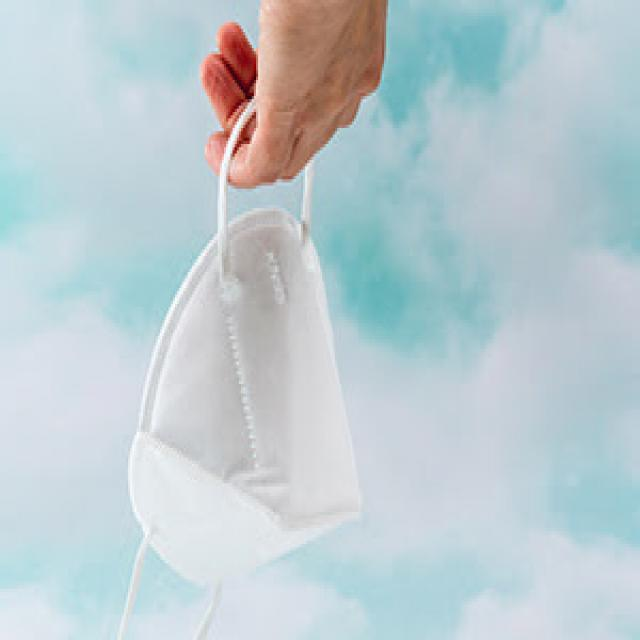face mask: (111, 89, 365, 640)
